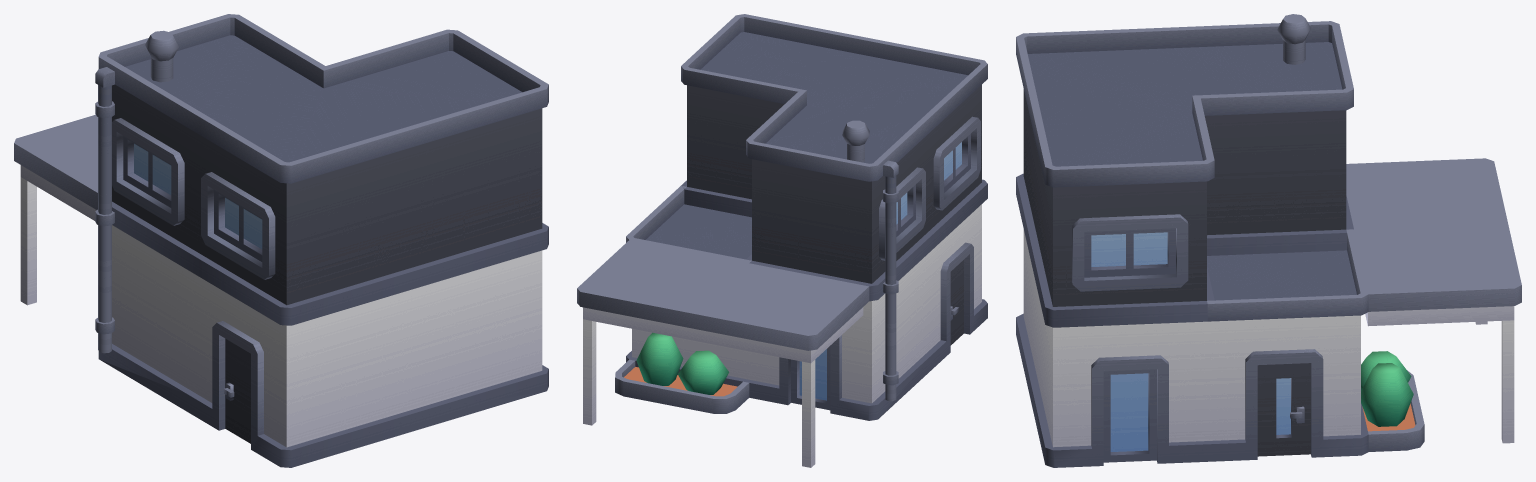
Rendered from building-type-q_lev1.glb.
3 views of the same model, side by side, from view 1: azimuth 30°, elevation 25°; view 2: azimuth 150°, elevation 25°; view 3: azimuth 270°, elevation 25° (orthographic). The views are drawn at different scales.
Visible parts, largest first — view 1: building-type-q_lev1; view 2: building-type-q_lev1; view 3: building-type-q_lev1.
Boxes of the visible parts, box(x1,y1,x2,y2) form: building-type-q_lev1: box(14, 14, 548, 467); building-type-q_lev1: box(577, 14, 987, 467); building-type-q_lev1: box(1016, 14, 1521, 467).
Size of the model in its own units: 6.47 by 6.25 by 8.9.
1 material, 1 textured.
